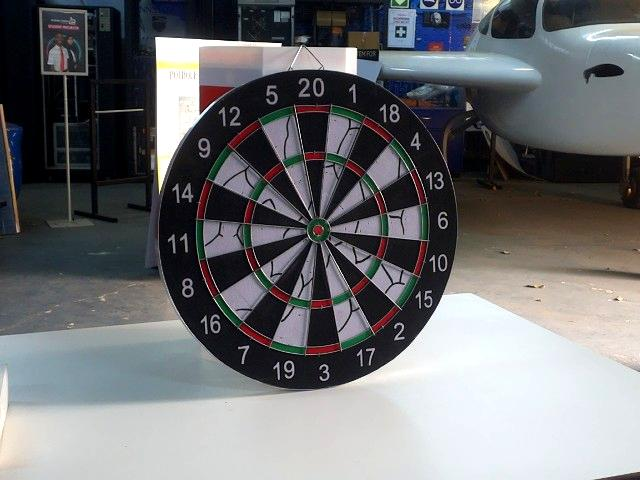bullseye: (311, 219, 328, 241)
double_1: (330, 105, 363, 121), (307, 346, 340, 354)
double_12: (229, 122, 258, 149)
double_20: (294, 102, 330, 113)
tdouble_19: (272, 342, 305, 358)
triple_19: (288, 299, 309, 306)
triple_20: (301, 150, 326, 162)
triple_3: (312, 303, 331, 306)
